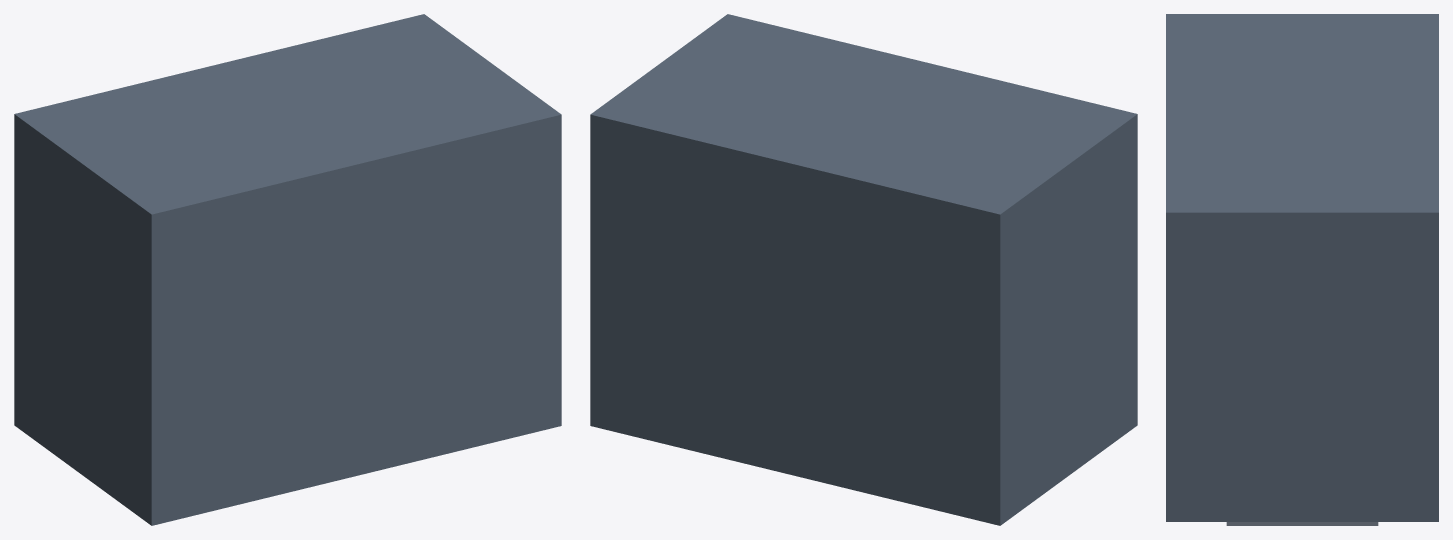
The model's file is microwave.glb.
The picture shows the model from 3 angles, left to right: view 1: azimuth 30°, elevation 25°; view 2: azimuth 150°, elevation 25°; view 3: azimuth 270°, elevation 25°; orthographic projection.
Parts seen in each view (by area): view 1: body_0; view 2: body_0; view 3: body_0, panel_2.
Boxes of the visible parts, x1=… form: body_0: x1=14, y1=14, x2=561, y2=525; body_0: x1=590, y1=14, x2=1137, y2=525; body_0: x1=1166, y1=14, x2=1438, y2=521; panel_2: x1=1226, y1=522, x2=1378, y2=525.
Size of the model in its own units: 0.62 by 0.47 by 0.36.
